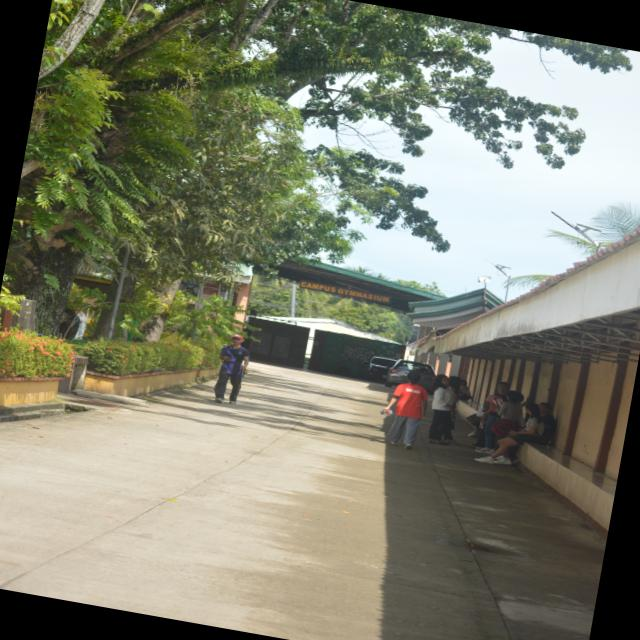person: (476, 403, 544, 465), (384, 371, 428, 449), (214, 334, 249, 403), (476, 382, 509, 454), (429, 375, 455, 445), (539, 403, 556, 445)
